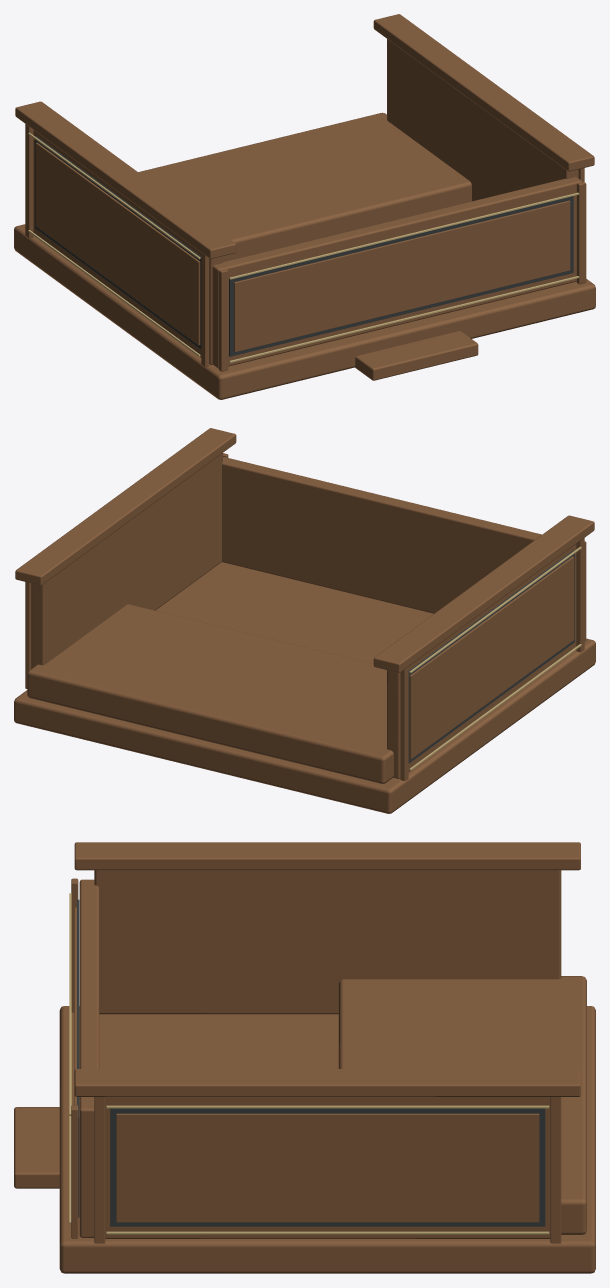
File: tribunal_caixa_juri.glb
The picture shows the model from 3 angles, top to bottom: view 1: azimuth 30°, elevation 25°; view 2: azimuth 150°, elevation 25°; view 3: azimuth 270°, elevation 25°; orthographic projection. The views are drawn at different scales.
Visible parts, largest first — view 1: city-courthouse-and-records-office-jury-box; view 2: city-courthouse-and-records-office-jury-box; view 3: city-courthouse-and-records-office-jury-box.
Part boxes in pixels (bbox=[...]): city-courthouse-and-records-office-jury-box: bbox=[14, 14, 595, 399]; city-courthouse-and-records-office-jury-box: bbox=[14, 428, 595, 813]; city-courthouse-and-records-office-jury-box: bbox=[14, 842, 595, 1273].
Bounding box in the file's own units: 2.9 × 1.07 × 2.93.
